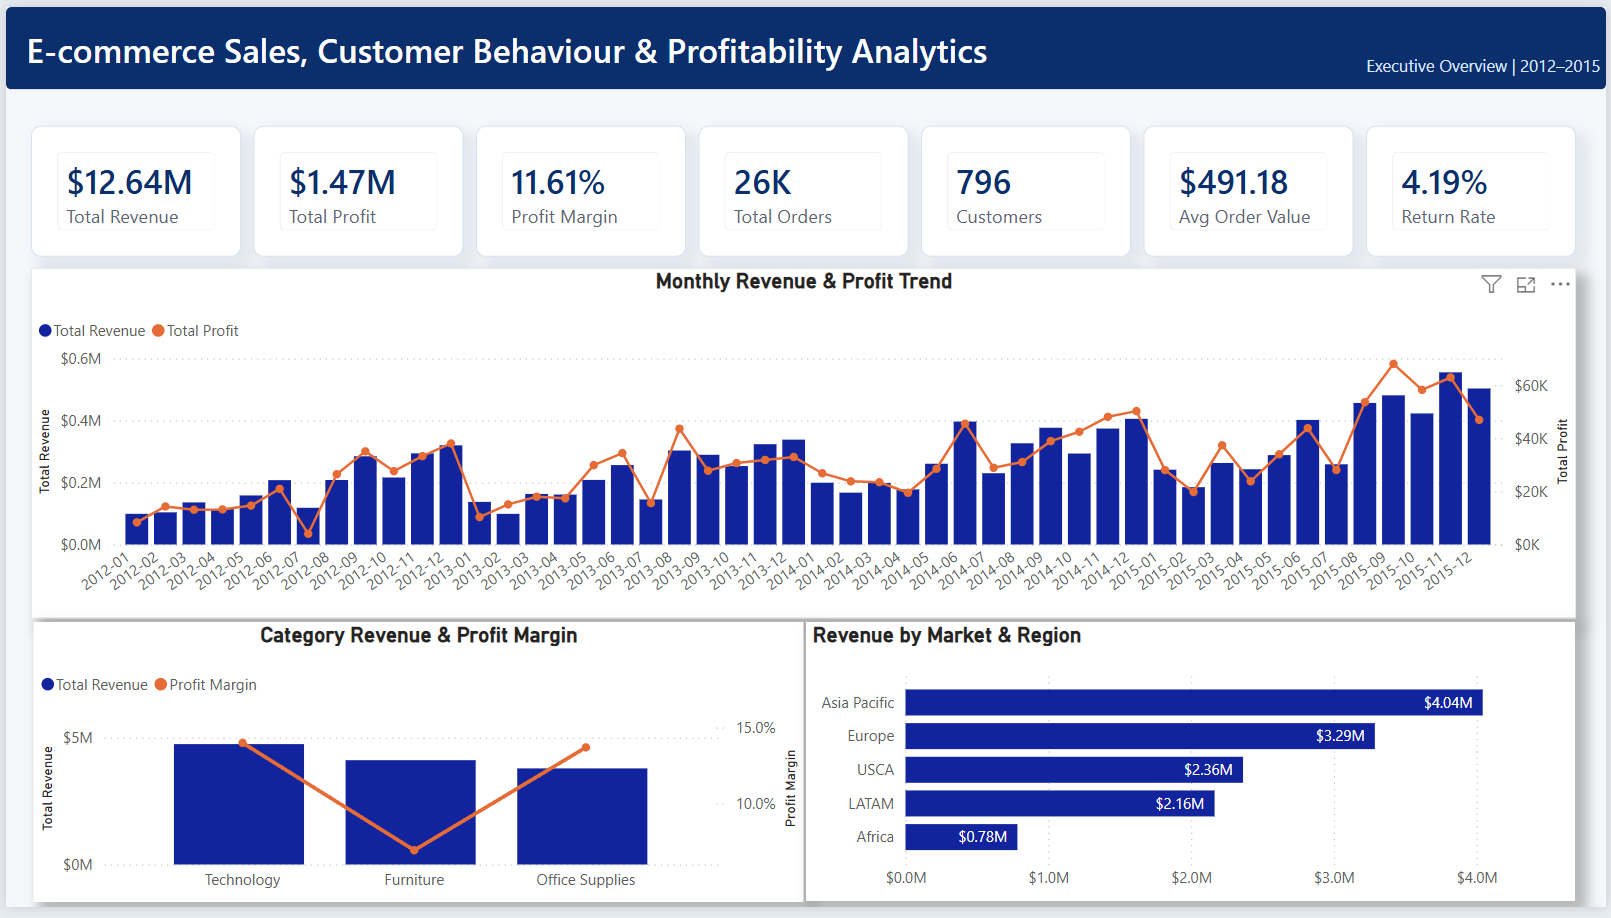

Layout of this report page (visuals, bound fields, positions):
{"tool":"powerbi","page":{"name":"01 Executive Overview","canvas":[1280,720],"ordinal":1},"visuals":[{"type":"shape","box":[0,0,1279.7,65.6],"z":0},{"type":"textbox","box":[10.9,10.9,876.6,45.3],"z":1000},{"type":"textbox","box":[0,32.8,1280,150],"z":2000},{"type":"cardVisual","fields":{"Data":["_Measures.Total Revenue"]},"box":[20,95,168,105],"z":3000},{"type":"cardVisual","fields":{"Data":["_Measures.Total Profit"]},"box":[198,95,168,105],"z":4000},{"type":"cardVisual","fields":{"Data":["_Measures.Profit Margin"]},"box":[376,95,168,105],"z":5000},{"type":"cardVisual","fields":{"Data":["_Measures.Total Orders"]},"box":[554,95,168,105],"z":6000},{"type":"cardVisual","fields":{"Data":["_Measures.Unique Customers"]},"box":[732,95,168,105],"z":7000},{"type":"cardVisual","fields":{"Data":["_Measures.Average Order Value"]},"box":[910,95,168,105],"z":8000},{"type":"cardVisual","fields":{"Data":["_Measures.Return Rate"]},"box":[1088,95,168,105],"z":9000},{"type":"lineClusteredColumnComboChart","title":"Monthly Revenue & Profit Trend","fields":{"Category":["DimDate.year_month"],"Y":["_Measures.Total Revenue"],"Y2":["_Measures.Total Profit"]},"box":[20,208.9,1235.6,280],"z":10000},{"type":"lineClusteredColumnComboChart","title":"Category Revenue & Profit Margin","fields":{"Y":["_Measures.Total Revenue"],"Y2":["_Measures.Profit Margin"],"Category":["DimProduct.category"]},"box":[22.2,492.2,615.6,223.3],"z":11000},{"type":"clusteredBarChart","title":"Revenue by Market & Region","fields":{"Category":["DimGeography.market","DimGeography.region"],"Y":["_Measures.Total Revenue"]},"box":[640,492.2,615,223],"z":12000}]}

Visuals, with their boxes in screenshot pixels (x1, y1, x2, y2), scaled from the page's 1280x720 canvas onto the 1611x918 screenshot:
shape: <region>0, 0, 1610, 84</region>
textbox: <region>14, 14, 1117, 72</region>
textbox: <region>0, 42, 1610, 233</region>
cardVisual - _Measures.Total Revenue: <region>25, 121, 237, 255</region>
cardVisual - _Measures.Total Profit: <region>249, 121, 461, 255</region>
cardVisual - _Measures.Profit Margin: <region>473, 121, 685, 255</region>
cardVisual - _Measures.Total Orders: <region>697, 121, 909, 255</region>
cardVisual - _Measures.Unique Customers: <region>921, 121, 1133, 255</region>
cardVisual - _Measures.Average Order Value: <region>1145, 121, 1357, 255</region>
cardVisual - _Measures.Return Rate: <region>1369, 121, 1581, 255</region>
"Monthly Revenue & Profit Trend" lineClusteredColumnComboChart: <region>25, 266, 1580, 623</region>
"Category Revenue & Profit Margin" lineClusteredColumnComboChart: <region>28, 628, 803, 912</region>
"Revenue by Market & Region" clusteredBarChart: <region>806, 628, 1580, 912</region>
